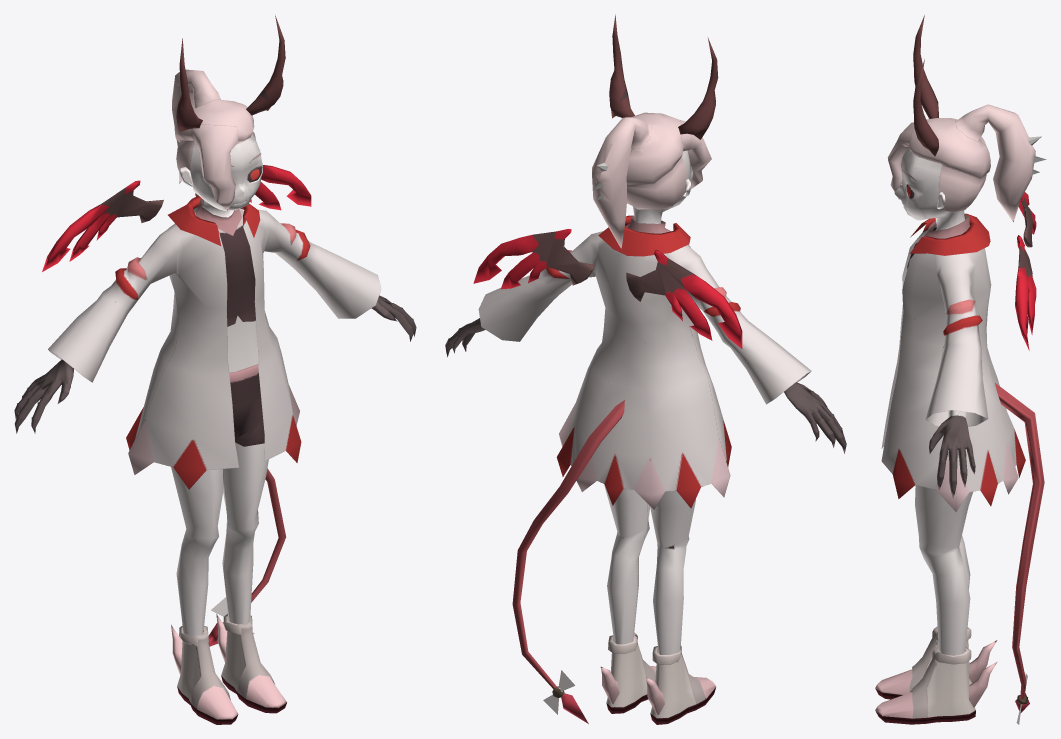
3 views of the same model, side by side, from view 1: azimuth 30°, elevation 25°; view 2: azimuth 150°, elevation 25°; view 3: azimuth 270°, elevation 25° (orthographic).
Parts seen in each view (by area): view 1: polySurface28, siserBODY3:polySurface39, polySurface22, pPlane8; view 2: polySurface28, siserBODY3:polySurface39, pPlane8, polySurface22; view 3: polySurface28, siserBODY3:polySurface39, pPlane8, polySurface22.
Boxes of the visible parts, bbox=[...] form: polySurface28: bbox=[48, 195, 381, 489]; siserBODY3:polySurface39: bbox=[14, 69, 416, 646]; polySurface22: bbox=[171, 198, 286, 724]; pPlane8: bbox=[42, 15, 311, 646]; polySurface28: bbox=[478, 215, 811, 509]; siserBODY3:polySurface39: bbox=[445, 112, 846, 662]; pPlane8: bbox=[473, 14, 742, 723]; polySurface22: bbox=[600, 216, 716, 724]; polySurface28: bbox=[881, 213, 1025, 511]; siserBODY3:polySurface39: bbox=[887, 104, 1046, 655]; pPlane8: bbox=[913, 15, 1044, 724]; polySurface22: bbox=[875, 213, 997, 724].
Bounding box in the file's own units: 3.66 × 5.91 × 1.38.
